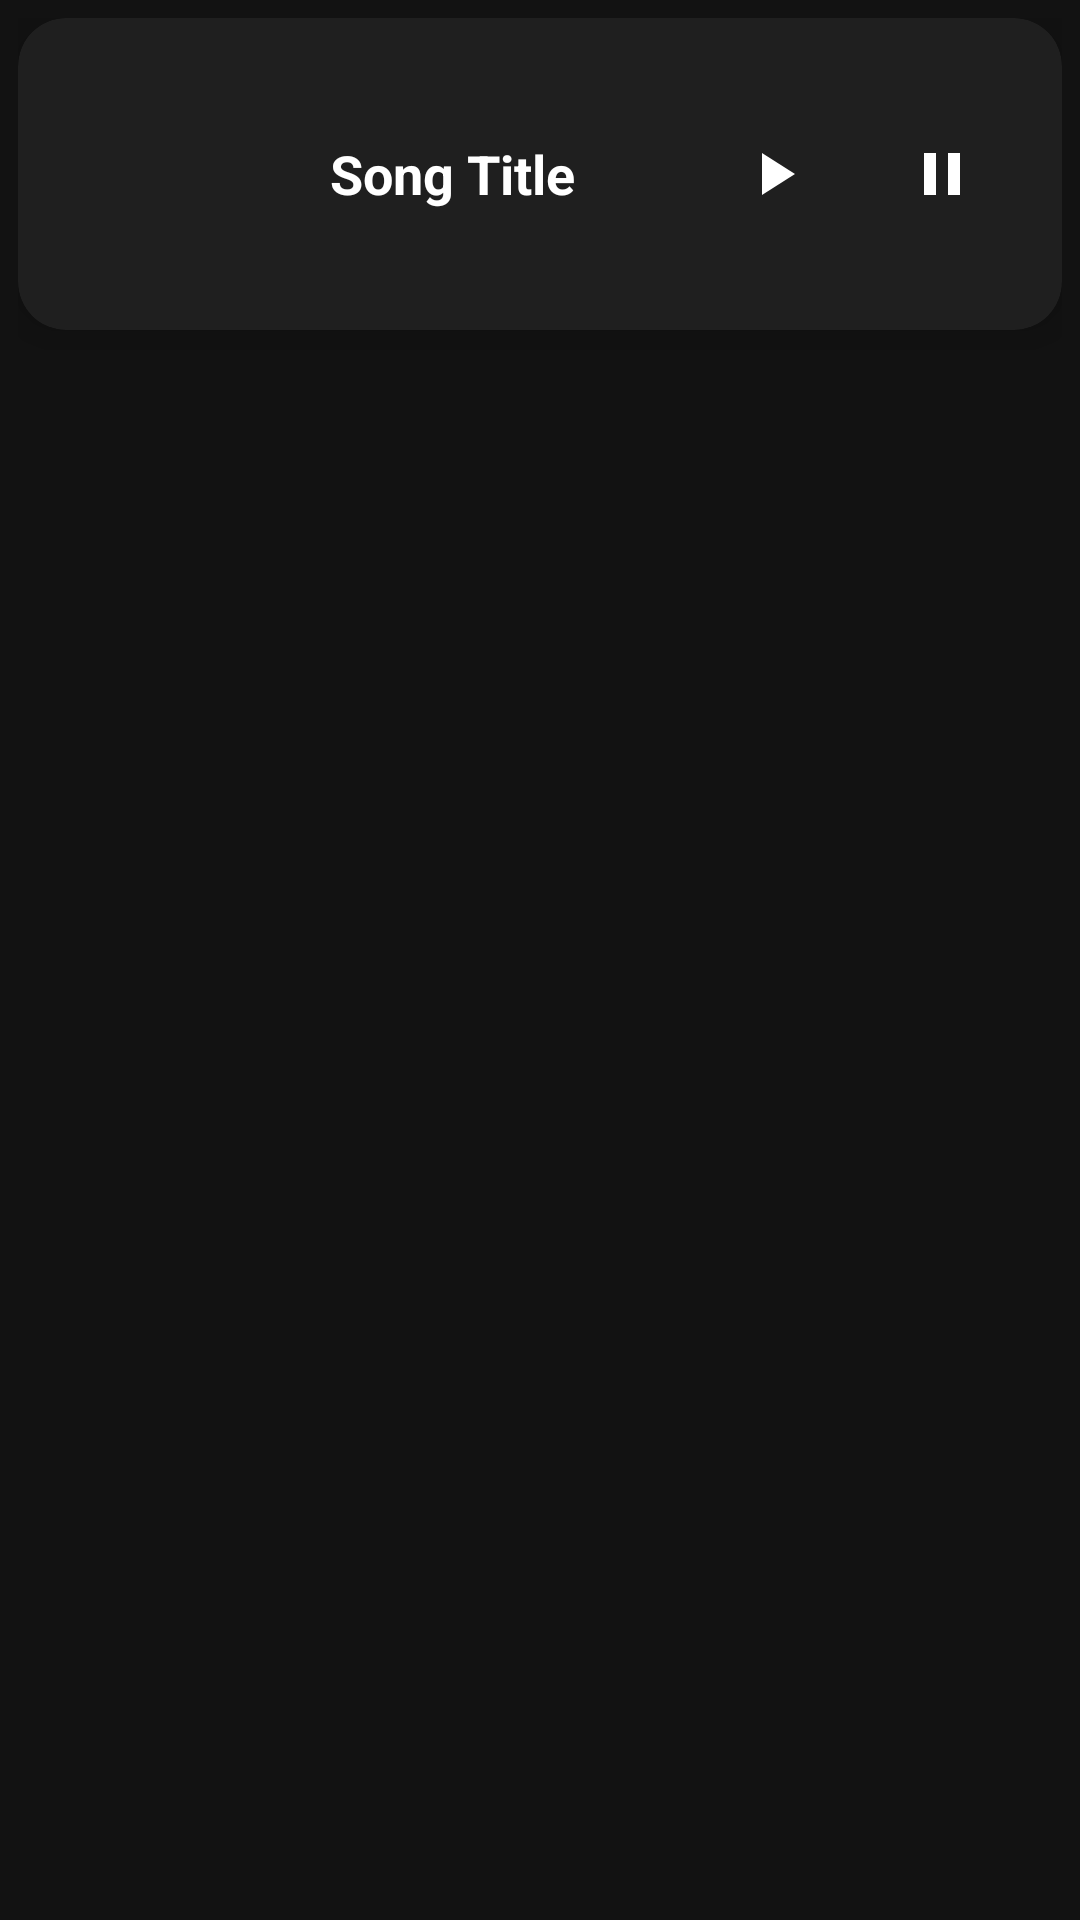

Locate icon controls on the screen. Image size 1080 x 1920, boxes as (x1, y1, x2, y2).
Pause: (924, 153, 960, 195)
Play: (762, 153, 795, 195)
